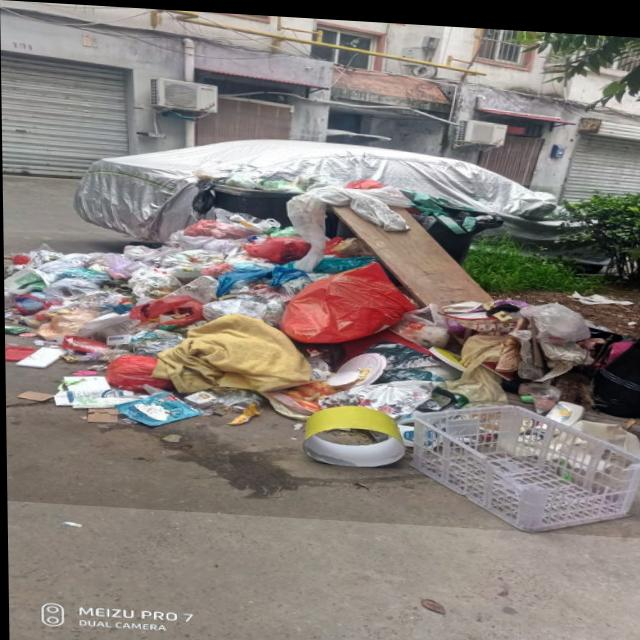garbage: (2, 154, 640, 531)
